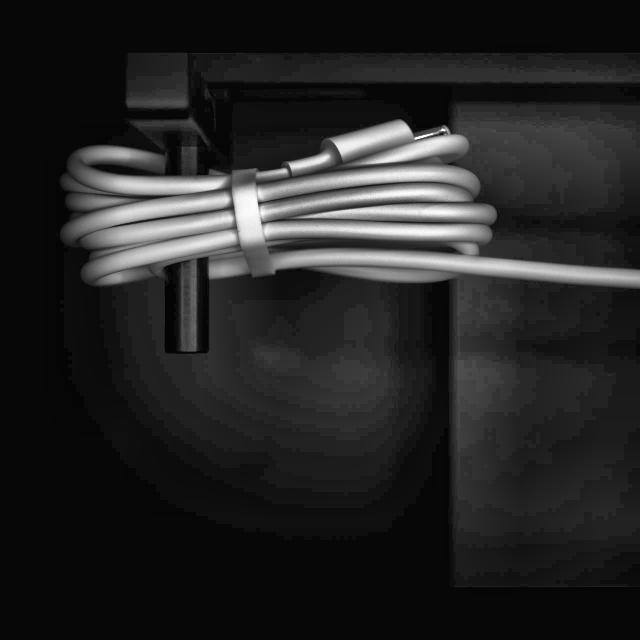Cable: (53, 117, 640, 290)
